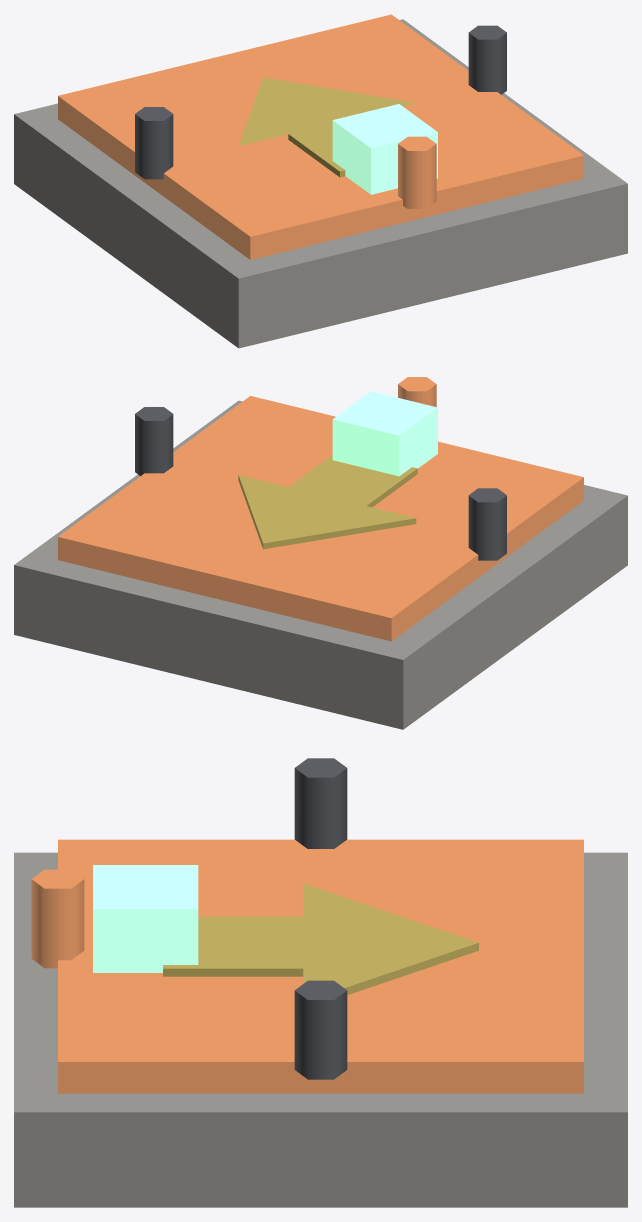
The model's file is build_gate_and.glb.
The picture shows the model from 3 angles, top to bottom: view 1: azimuth 30°, elevation 25°; view 2: azimuth 150°, elevation 25°; view 3: azimuth 270°, elevation 25°; orthographic projection. The views are drawn at different scales.
Visible parts, largest first — view 1: Baked; view 2: Baked; view 3: Baked.
Part boxes in pixels (left/top/right/bottom): Baked: left=14, top=14, right=627, bottom=348; Baked: left=14, top=377, right=627, bottom=729; Baked: left=14, top=758, right=627, bottom=1207.
Size of the model in its own units: 0.7 by 0.25 by 0.7.
